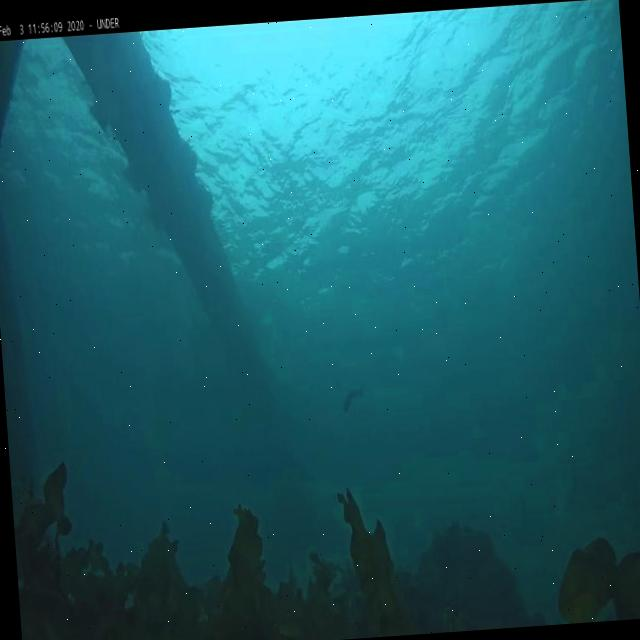fish: (340, 386, 365, 414)
